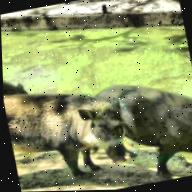boar: (2, 50, 140, 185), (83, 50, 192, 162)
